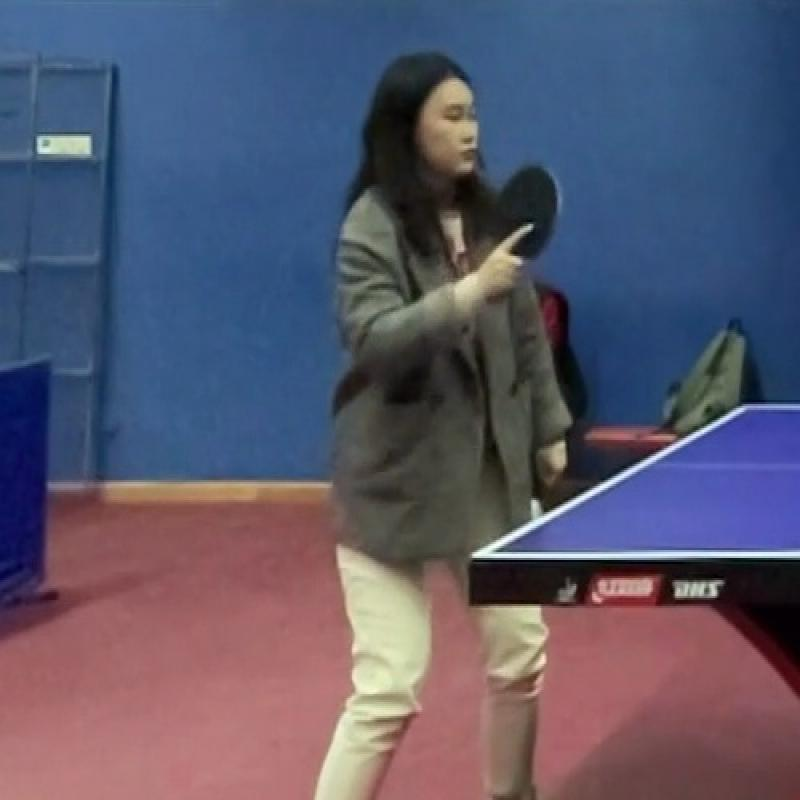bats: (464, 162, 572, 270)
